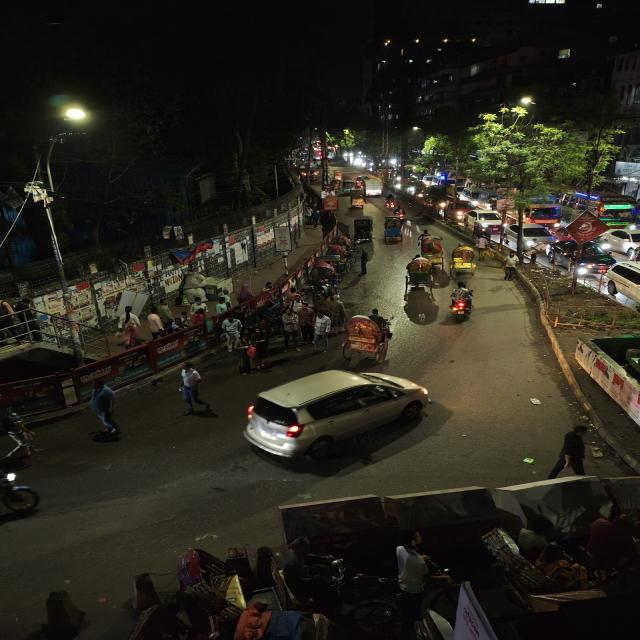bus: (593, 192, 638, 229)
car: (233, 360, 465, 466), (556, 237, 617, 280), (471, 206, 508, 233), (444, 201, 479, 223)
cng: (342, 178, 355, 194)
motorcycle: (446, 278, 476, 325), (391, 204, 407, 218), (385, 192, 396, 208)
pedestrian: (82, 382, 132, 441), (0, 402, 46, 464), (555, 418, 592, 479), (170, 363, 214, 414), (281, 306, 309, 354), (309, 312, 336, 354), (234, 332, 257, 374), (289, 291, 311, 327), (325, 294, 347, 329), (220, 315, 242, 349), (357, 246, 376, 285), (502, 249, 518, 282)
rickshaw: (348, 302, 397, 363), (447, 237, 477, 280), (406, 255, 434, 293), (348, 211, 378, 246), (422, 232, 446, 268), (383, 214, 406, 247), (350, 192, 366, 209)
truck: (525, 196, 561, 229), (365, 178, 388, 197)
